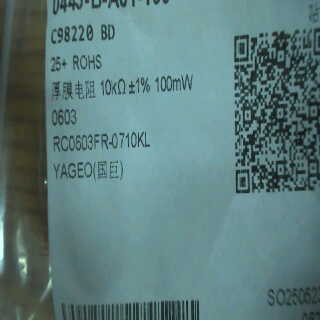10kR: (99, 72, 126, 102)
